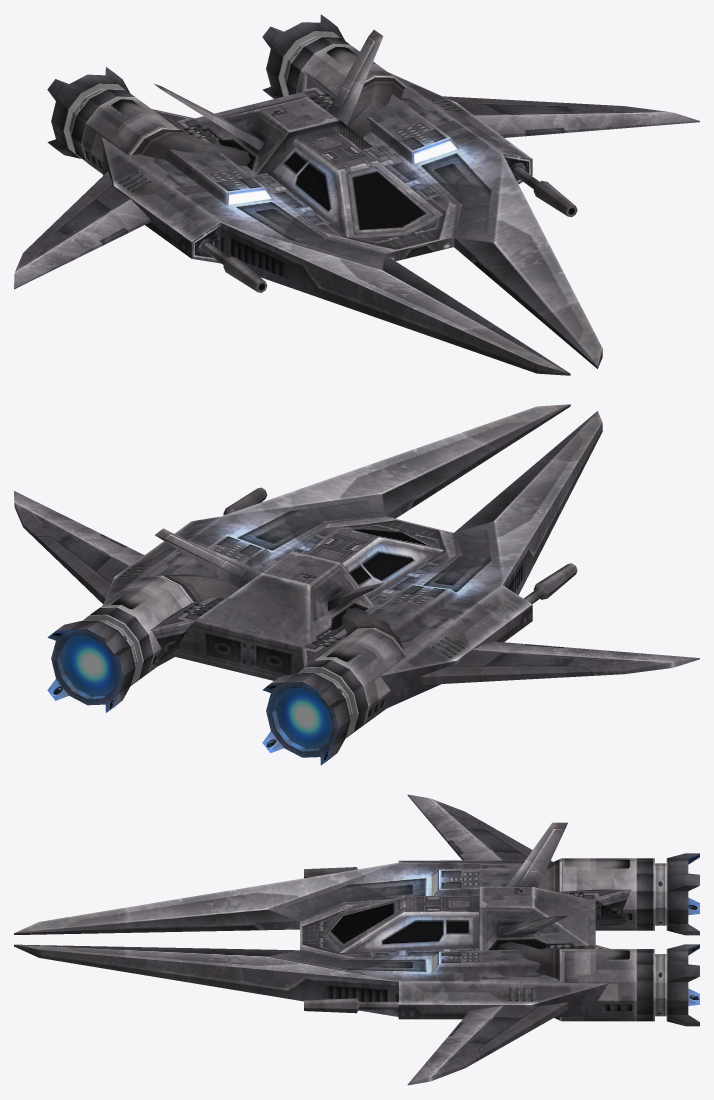
Rendered from fighter1.obj.
3 renders of one model, top to bottom at view 1: azimuth 30°, elevation 25°; view 2: azimuth 150°, elevation 25°; view 3: azimuth 270°, elevation 25°, orthographic. The views are drawn at different scales.
Parts seen in each view (by area): view 1: ship_4; view 2: ship_4; view 3: ship_4.
Boxes of the visible parts, x1,y1,x2,y2 form: ship_4: (14, 14, 699, 375); ship_4: (14, 404, 699, 765); ship_4: (14, 794, 699, 1085).
Size of the model in its own units: 49.14 by 8.13 by 49.14.
Materials: 1 (1 with a texture image).
